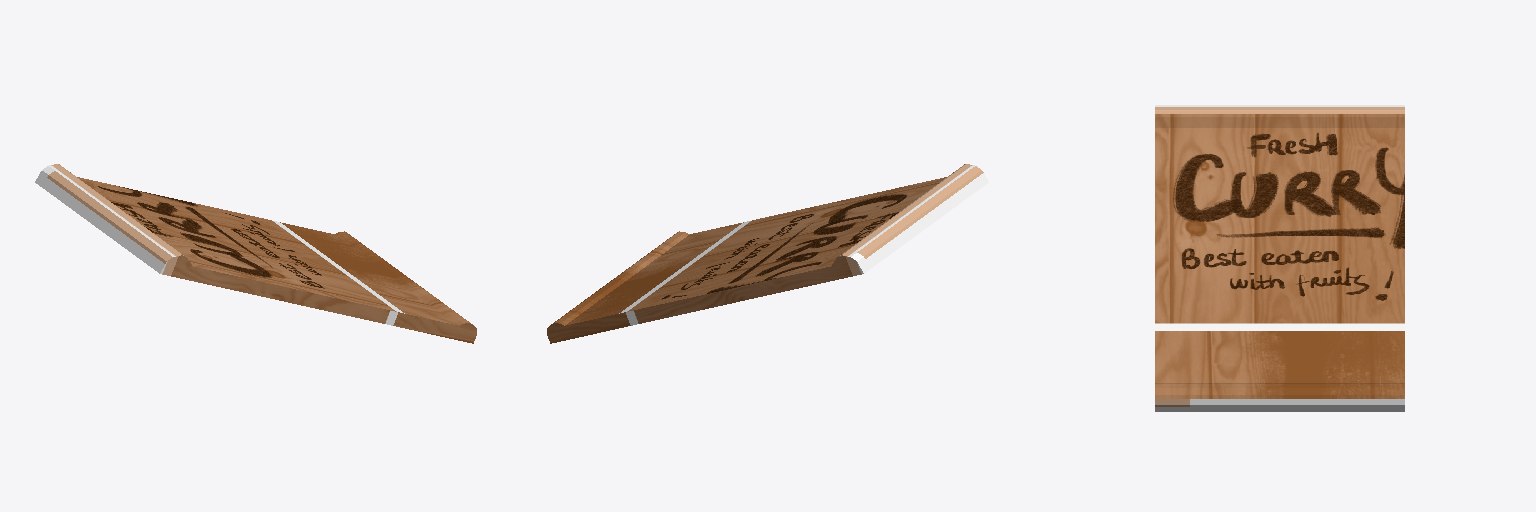
3 renders of one model, left to right at view 1: azimuth 30°, elevation 25°; view 2: azimuth 150°, elevation 25°; view 3: azimuth 270°, elevation 25°, orthographic.
Parts seen in each view (by area): view 1: Cube_Material; view 2: Cube_Material; view 3: Cube_Material.
Part boxes in pixels (bbox=[...]): Cube_Material: bbox=[35, 164, 476, 343]; Cube_Material: bbox=[547, 164, 988, 343]; Cube_Material: bbox=[1155, 105, 1404, 411].
Size of the model in its own units: 2.93 by 1.41 by 2.
Materials: 1 (1 with a texture image).